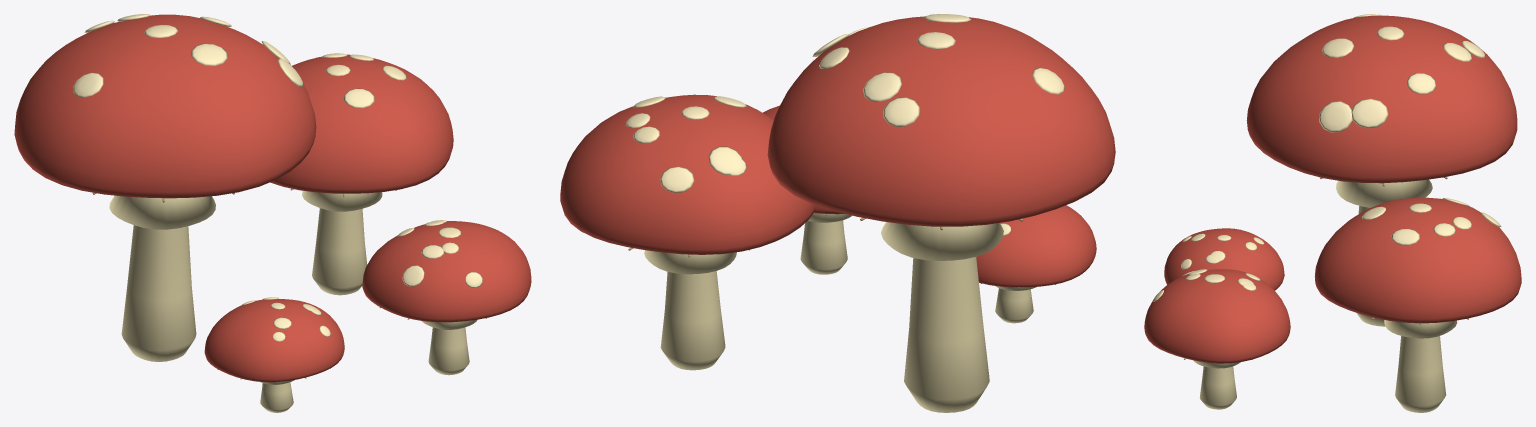
File: SM_SF_MushroomCluster_01.fbx
3 renders of one model, left to right at view 1: azimuth 30°, elevation 25°; view 2: azimuth 150°, elevation 25°; view 3: azimuth 270°, elevation 25°, orthographic. The views are drawn at different scales.
Parts seen in each view (by area): view 1: SM_SF_MushroomCluster_01; view 2: SM_SF_MushroomCluster_01; view 3: SM_SF_MushroomCluster_01.
Part boxes in pixels (x1=…): SM_SF_MushroomCluster_01: x1=14, y1=14, x2=531, y2=412; SM_SF_MushroomCluster_01: x1=560, y1=14, x2=1115, y2=412; SM_SF_MushroomCluster_01: x1=1144, y1=14, x2=1521, y2=412.
Bounding box in the file's own units: 1.6 × 1.34 × 1.13.
